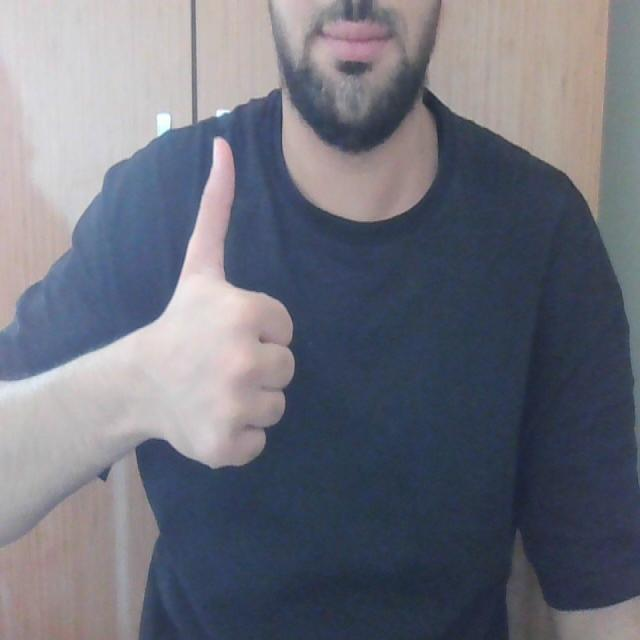Tamam: (144, 127, 304, 483)
